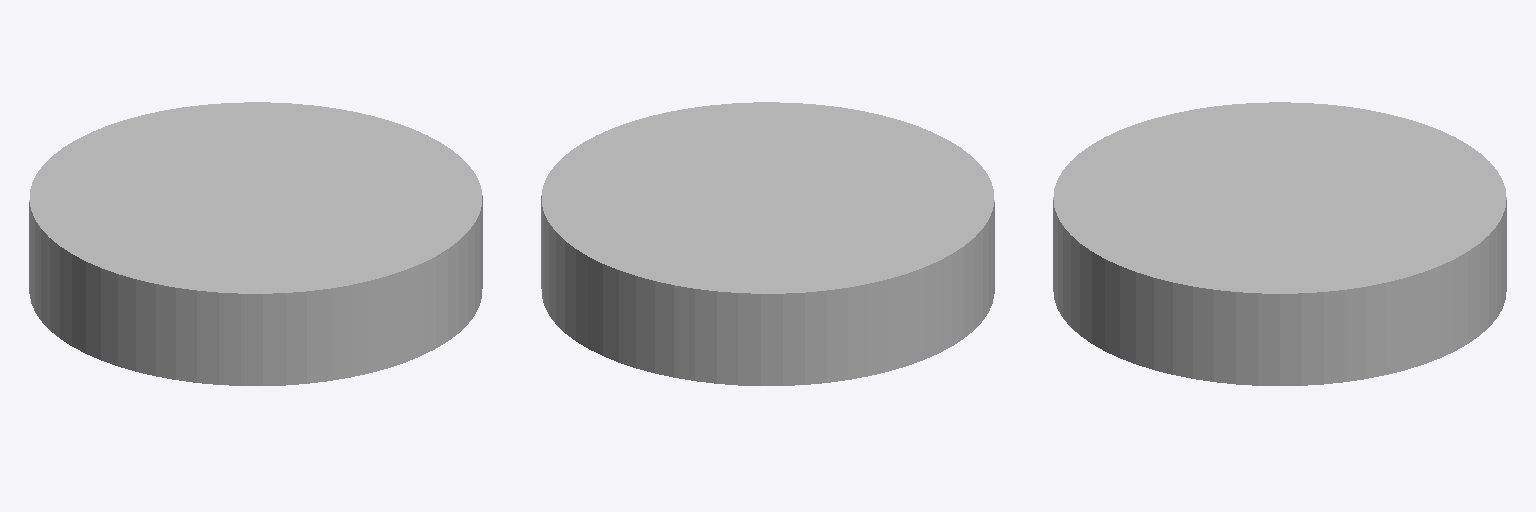
File: roomscene.obj
3 views of the same model, side by side, from view 1: azimuth 30°, elevation 25°; view 2: azimuth 150°, elevation 25°; view 3: azimuth 270°, elevation 25° (orthographic).
Visible parts, largest first — view 1: Room_Room; view 2: Room_Room; view 3: Room_Room.
Boxes of the visible parts, box(x1,y1,x2,y2) form: Room_Room: box(29, 102, 482, 385); Room_Room: box(541, 102, 994, 385); Room_Room: box(1053, 102, 1506, 385).
Size of the model in its own units: 4200 by 1184 by 4200.